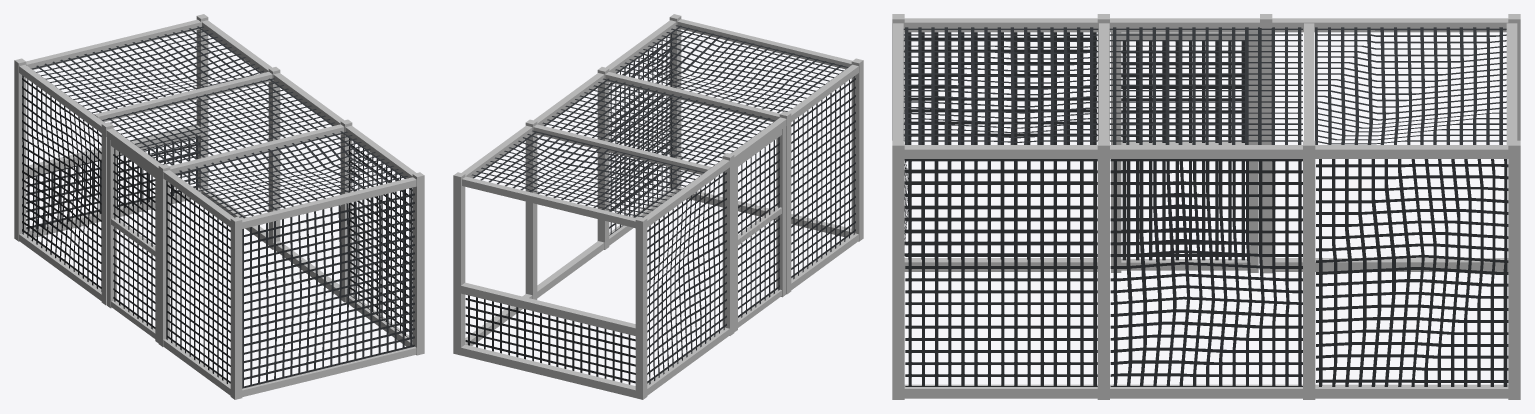
File: SM_Prop_Chicken_Coop_Cage_01.fbx
3 renders of one model, left to right at view 1: azimuth 30°, elevation 25°; view 2: azimuth 150°, elevation 25°; view 3: azimuth 270°, elevation 25°, orthographic. The views are drawn at different scales.
Visible parts, largest first — view 1: SM_Prop_Chicken_Coop_Cage_01, SM_Prop_Chicken_Coop_Cage_Door_01; view 2: SM_Prop_Chicken_Coop_Cage_01, SM_Prop_Chicken_Coop_Cage_Door_01; view 3: SM_Prop_Chicken_Coop_Cage_01, SM_Prop_Chicken_Coop_Cage_Door_01.
Boxes of the visible parts, x1,y1,x2,y2 form: SM_Prop_Chicken_Coop_Cage_01: (14,14,424,399); SM_Prop_Chicken_Coop_Cage_Door_01: (107,137,158,343); SM_Prop_Chicken_Coop_Cage_01: (453,14,863,399); SM_Prop_Chicken_Coop_Cage_Door_01: (734,126,786,332); SM_Prop_Chicken_Coop_Cage_01: (892,14,1520,399); SM_Prop_Chicken_Coop_Cage_Door_01: (1111,32,1258,272).
Bounding box in the file's own units: 168 × 151 × 337.
